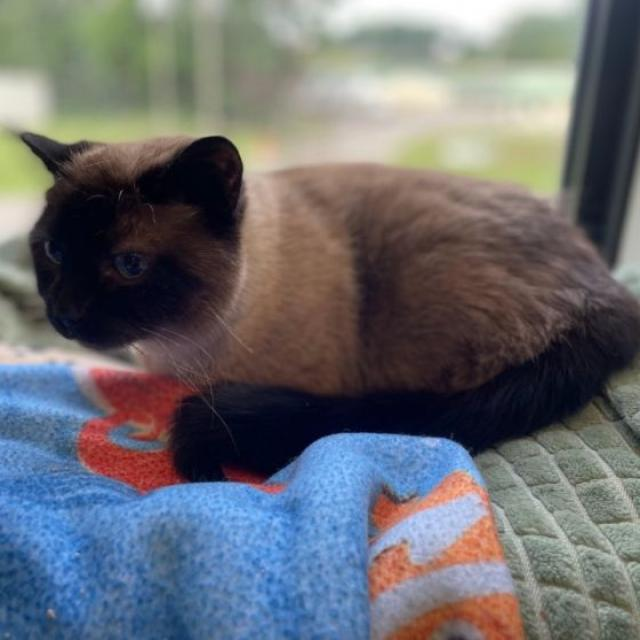siamese_cat: (16, 113, 268, 372)
